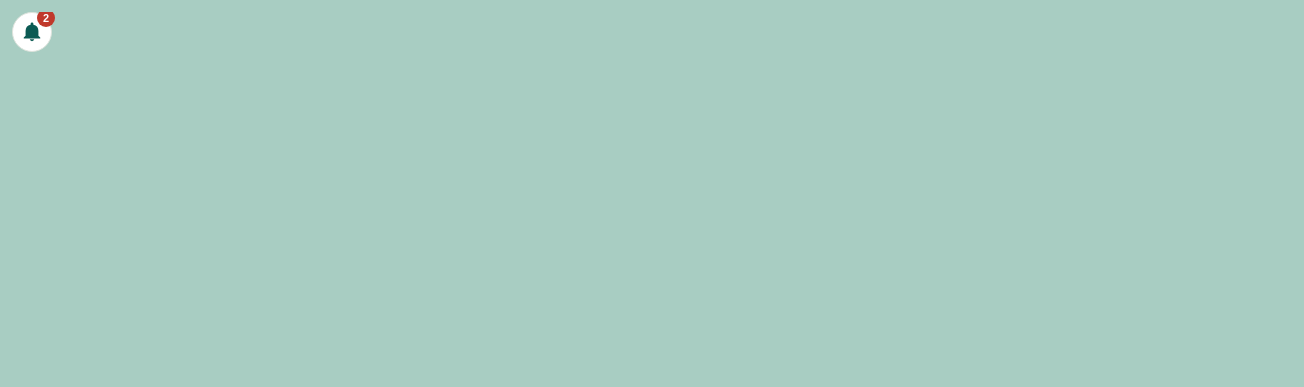
Test: Notificaciones › abre el panel con cada aviso, su enlace y hace cuánto llegó
This screenshot has width=1304, height=387.
Click the button named "Notificaciones, 2 sin leer": click(32, 32) [12, 12, 52, 52]
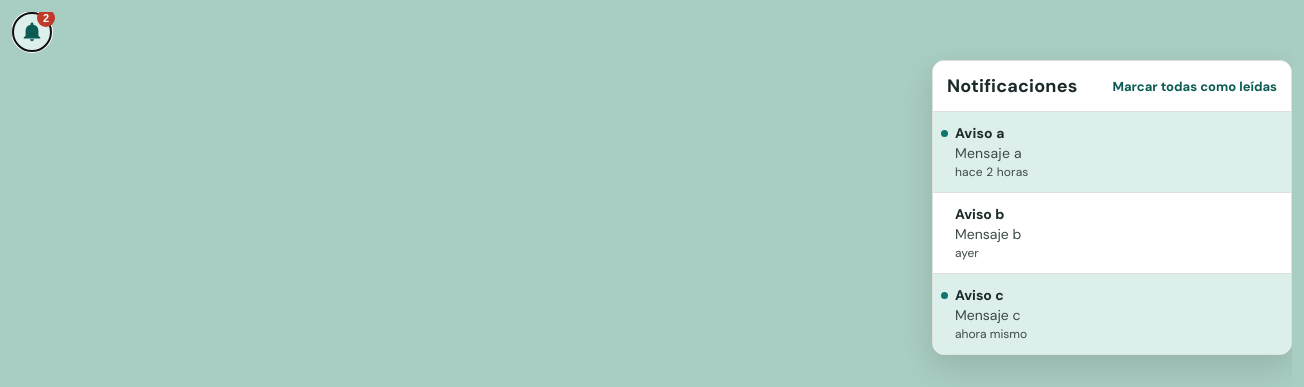
expect the element "Notificaciones" is shown: met, box [932, 60, 1292, 355]
expect the link "Aviso a Mensaje a hace 2 horas" is shown: met, box [933, 112, 1291, 192]
expect the button "Aviso b Mensaje b ayer" is shown: met, box [933, 193, 1291, 273]
